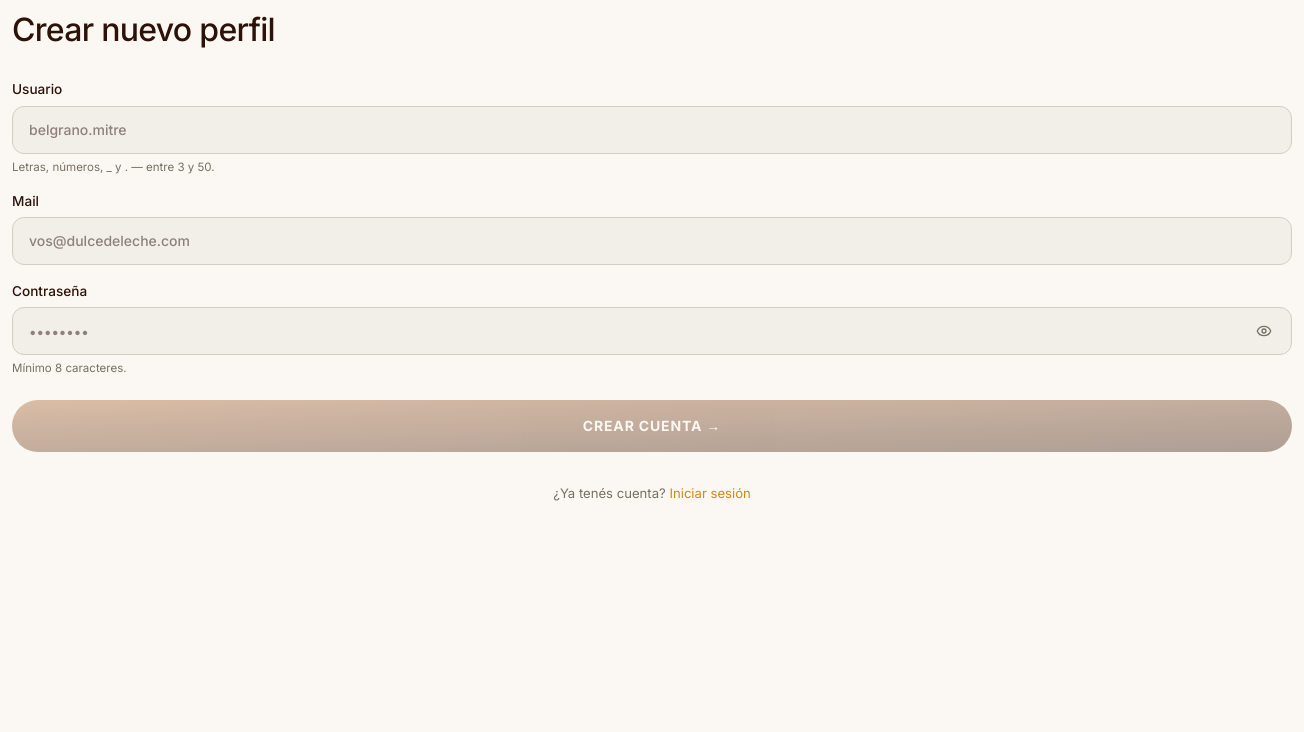
Scenario: SignUpForm › maps a 409 about the username to a taken-username message
The image size is (1304, 732).
Type "belgrano" into the field labelled "Usuario". click: (652, 130)
box: x1=12 y1=106 x2=1292 y2=154
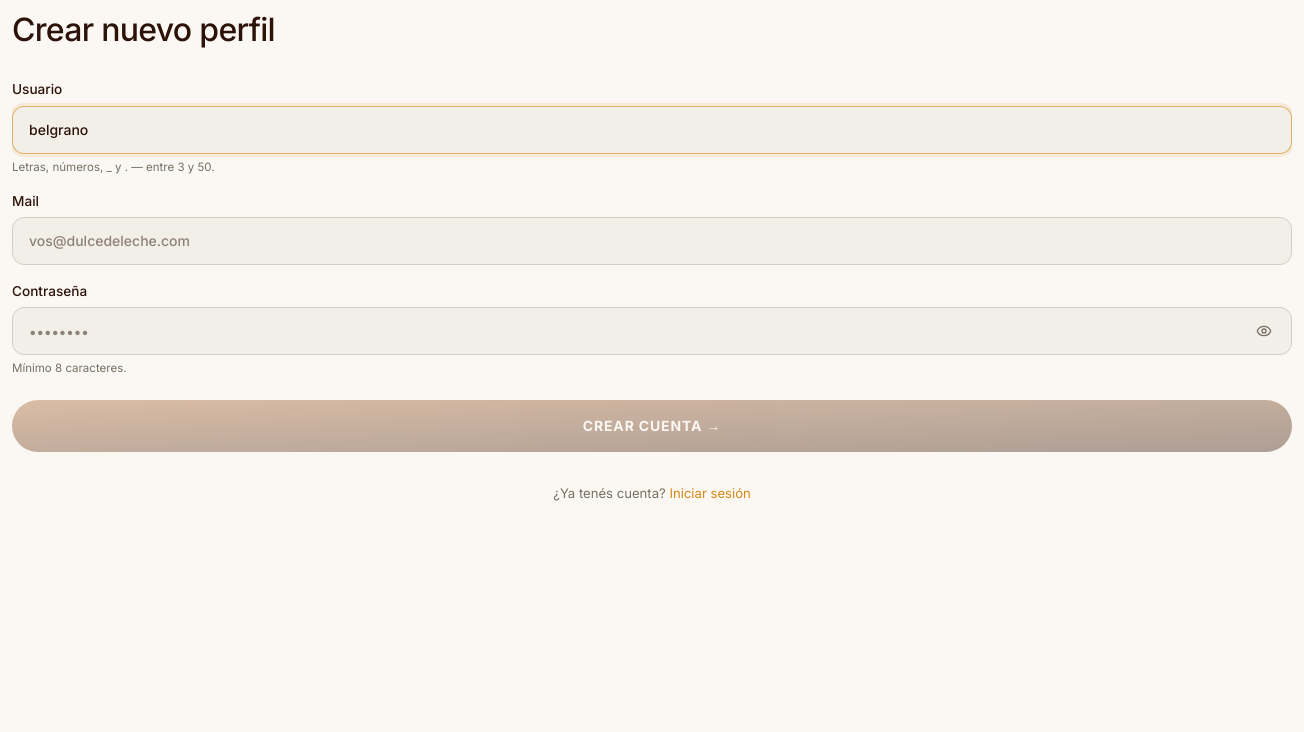
Type "a@b.com" into the field labelled "Mail". click: (652, 241)
box: x1=12 y1=217 x2=1292 y2=265
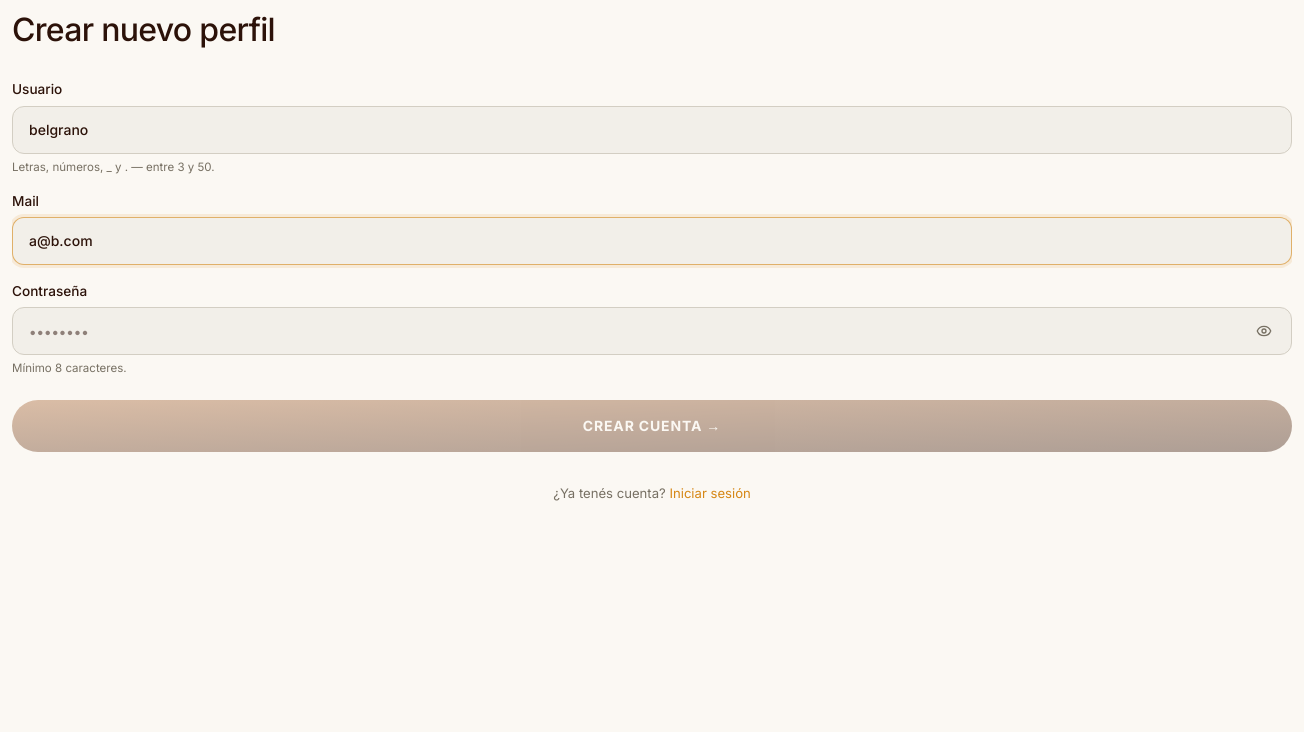
Type "longenough" into the password field labelled "Contraseña". click: (652, 331)
box: x1=12 y1=307 x2=1292 y2=355
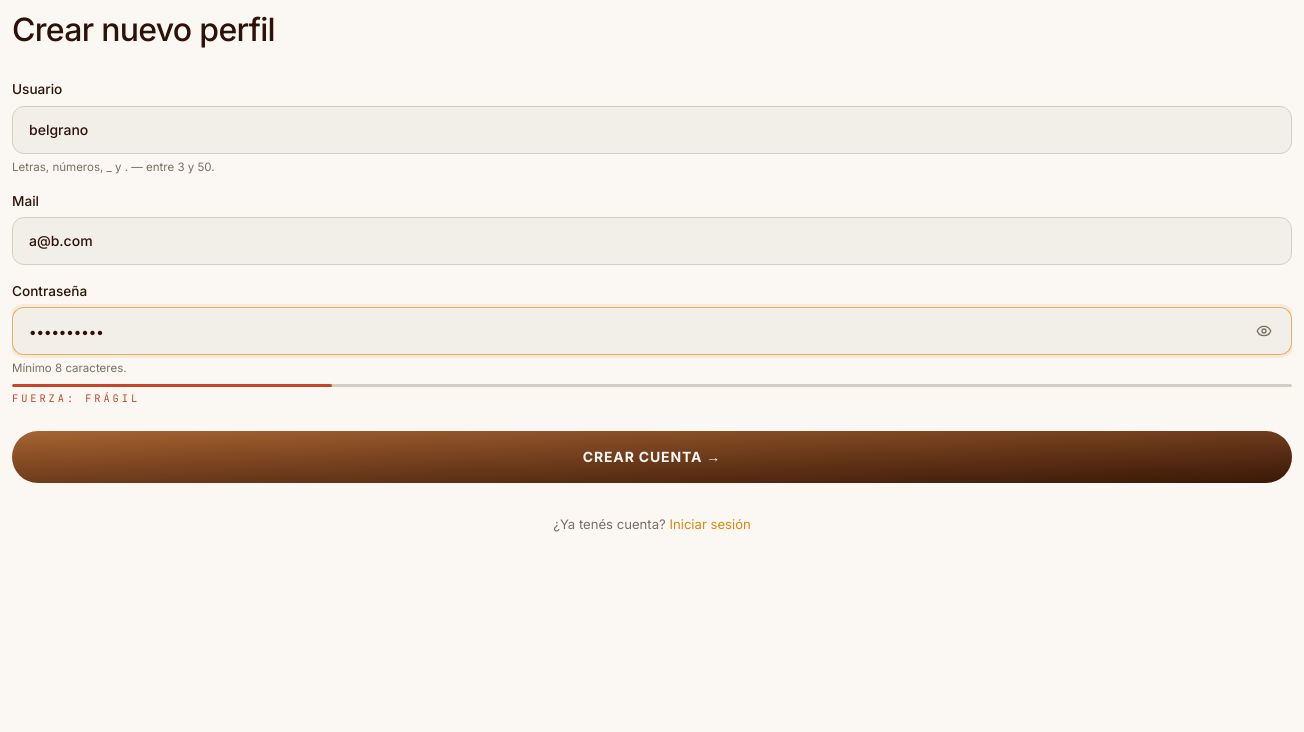
Click the button "Crear cuenta →". click: (652, 457)
box: x1=12 y1=431 x2=1292 y2=483
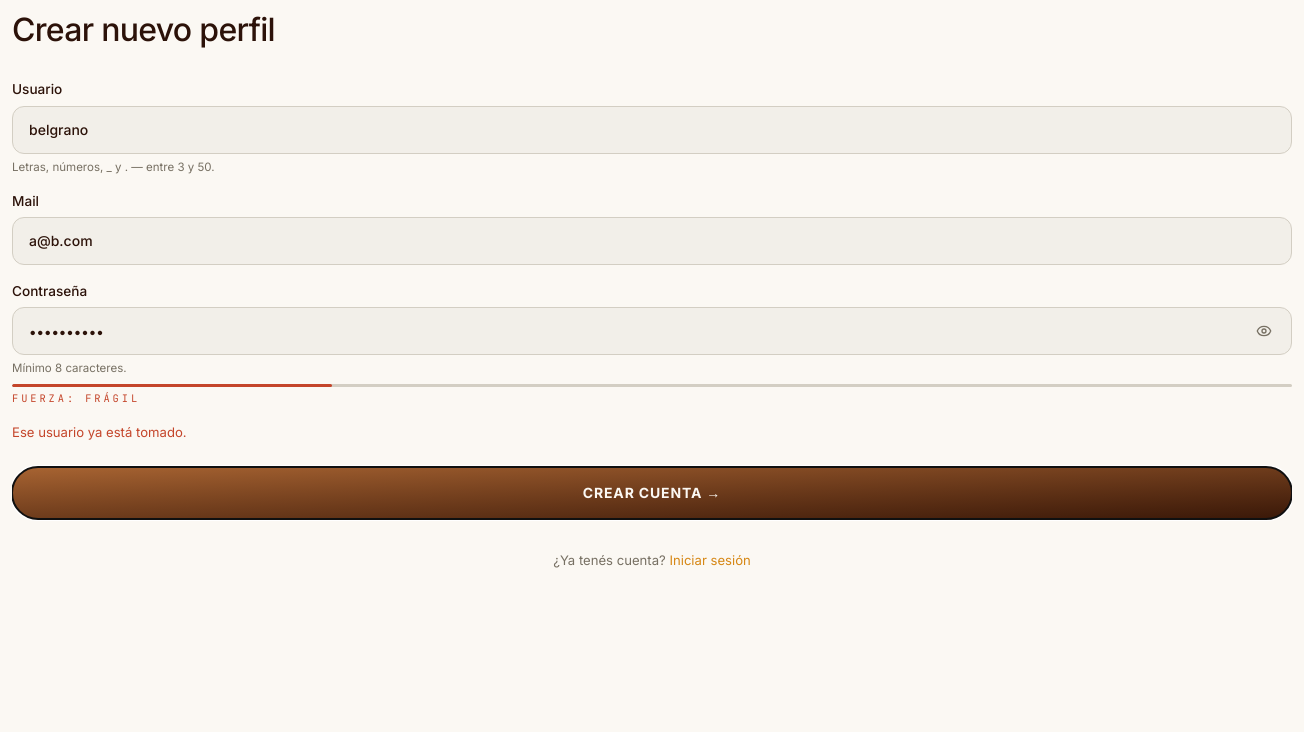
Now the message shows "usuario ya está tomado", box x1=12 y1=424 x2=186 y2=440
